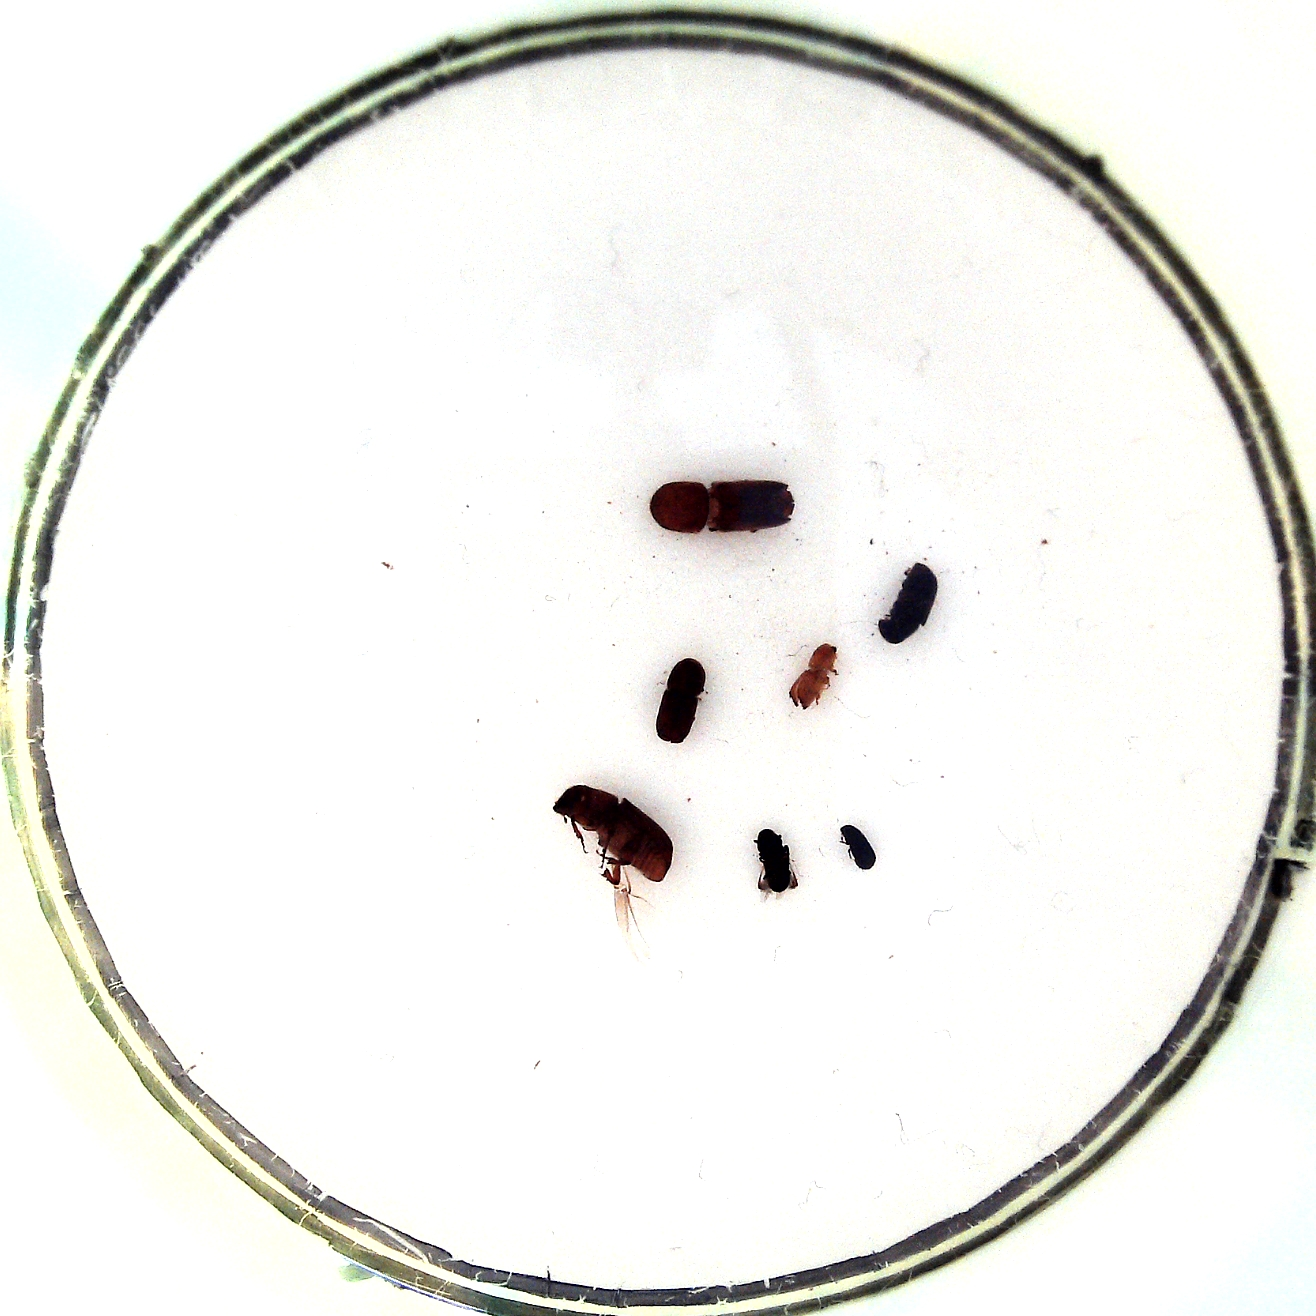Boerner: (639, 471, 801, 542)
Leconte: (550, 776, 678, 938)
Linnaeus: (652, 652, 709, 748)
acuminatus: (786, 638, 846, 713)
armandi: (873, 556, 941, 647)
coleoptera: (746, 826, 801, 901), (832, 813, 885, 879)
